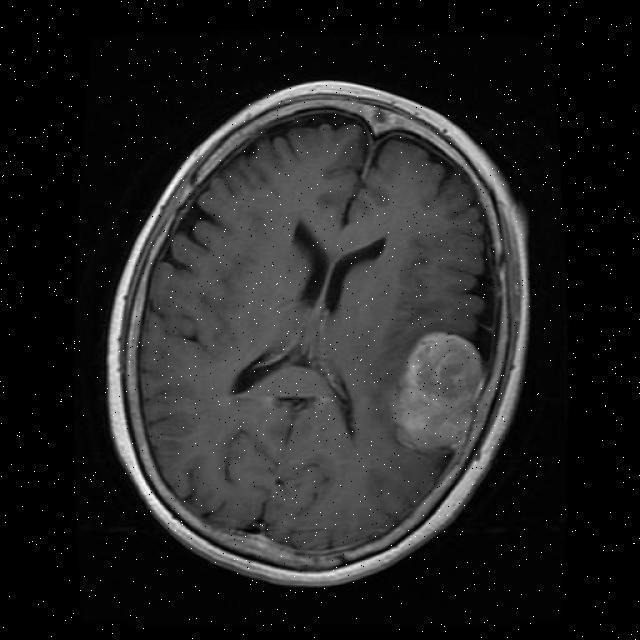Meningioma: (391, 333, 484, 451)
